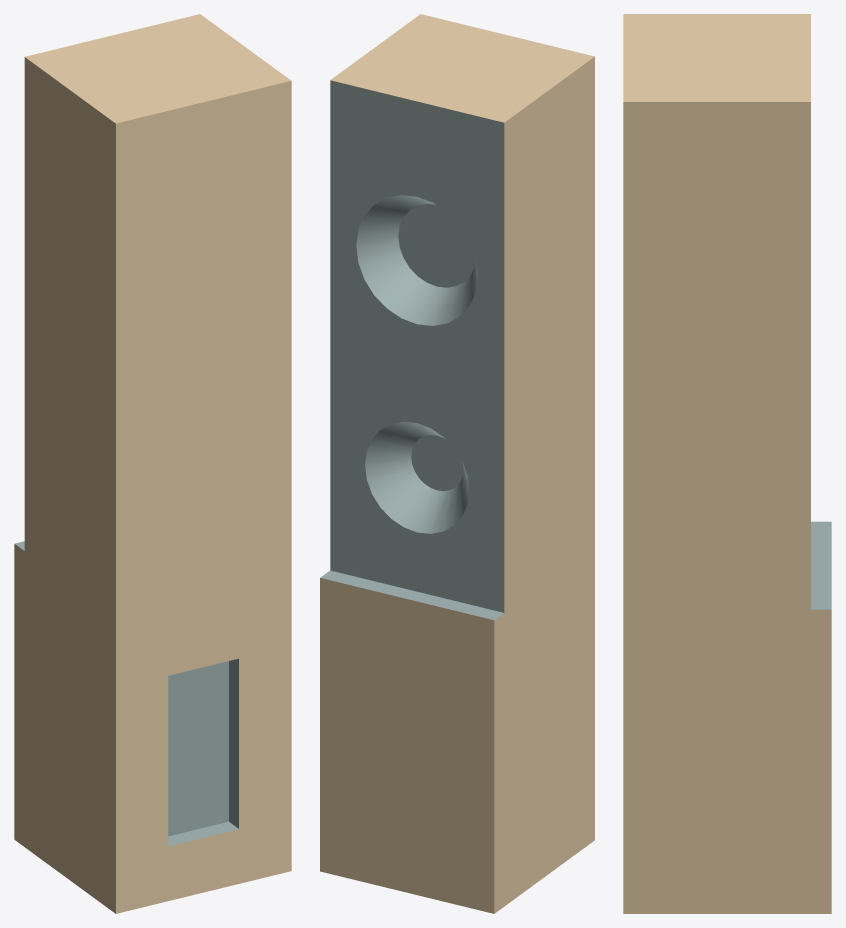
Rendered from speaker.glb.
3 views of the same model, side by side, from view 1: azimuth 30°, elevation 25°; view 2: azimuth 150°, elevation 25°; view 3: azimuth 270°, elevation 25° (orthographic). The views are drawn at different scales.
Parts seen in each view (by area): view 1: _MeshInstance3D_615; view 2: _MeshInstance3D_615; view 3: _MeshInstance3D_615.
Part boxes in pixels (<box>): _MeshInstance3D_615: <box>14,14,291,913</box>; _MeshInstance3D_615: <box>320,14,594,913</box>; _MeshInstance3D_615: <box>623,14,831,913</box>.
Bounding box in the file's own units: 1.48 × 6.36 × 1.48.
